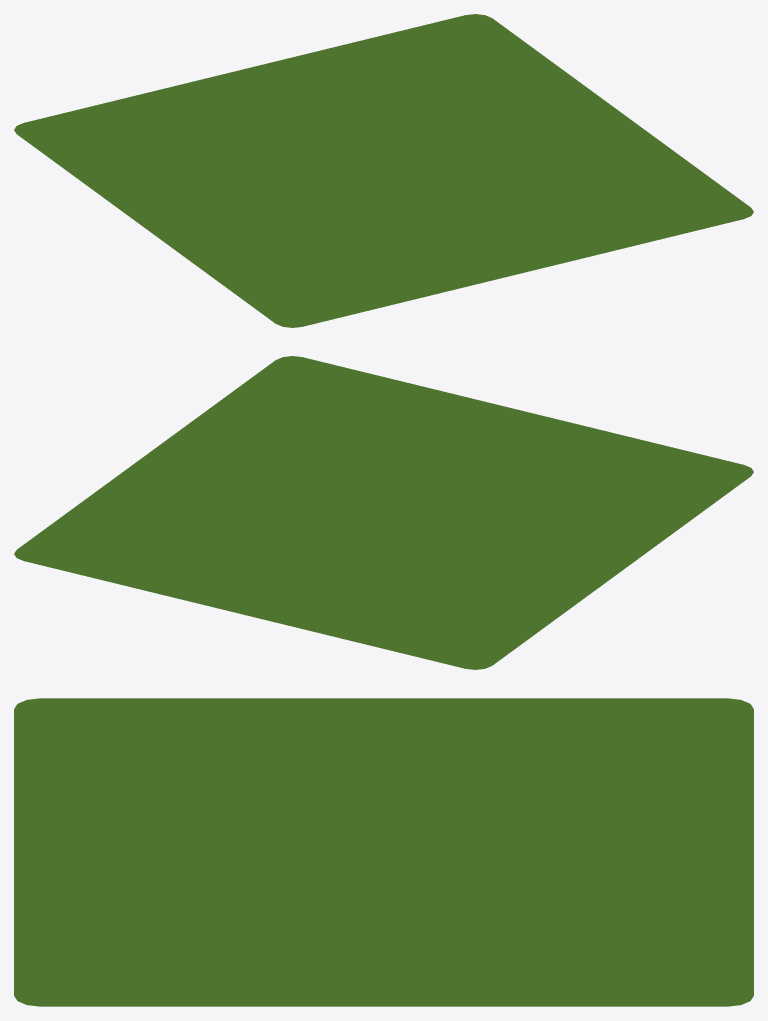
3 renders of one model, top to bottom at view 1: azimuth 30°, elevation 25°; view 2: azimuth 150°, elevation 25°; view 3: azimuth 270°, elevation 25°, orthographic. The views are drawn at different scales.
Visible parts, largest first — view 1: Plane.002; view 2: Plane.002; view 3: Plane.002.
Boxes of the visible parts, x1=… form: Plane.002: x1=14, y1=14, x2=753, y2=327; Plane.002: x1=14, y1=356, x2=753, y2=669; Plane.002: x1=14, y1=698, x2=753, y2=1006.
Size of the model in its own units: 2539 by 0 by 2577.
